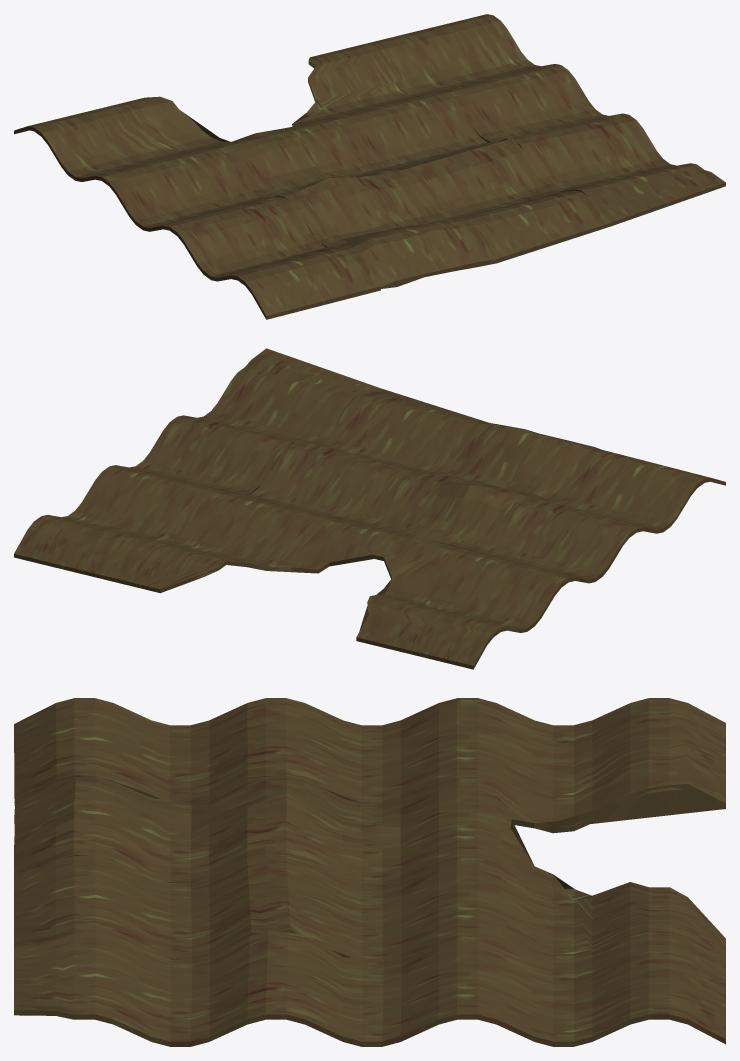
The model's file is metal scrap3.fbx.
3 renders of one model, top to bottom at view 1: azimuth 30°, elevation 25°; view 2: azimuth 150°, elevation 25°; view 3: azimuth 270°, elevation 25°, orthographic. The views are drawn at different scales.
Parts seen in each view (by area): view 1: Plane.019; view 2: Plane.019; view 3: Plane.019.
Boxes of the visible parts, left/top/right/bottom form: Plane.019: left=14, top=14, right=725, bottom=319; Plane.019: left=14, top=348, right=725, bottom=669; Plane.019: left=14, top=698, right=725, bottom=1046.
Size of the model in its own units: 189 by 13.01 by 180.
